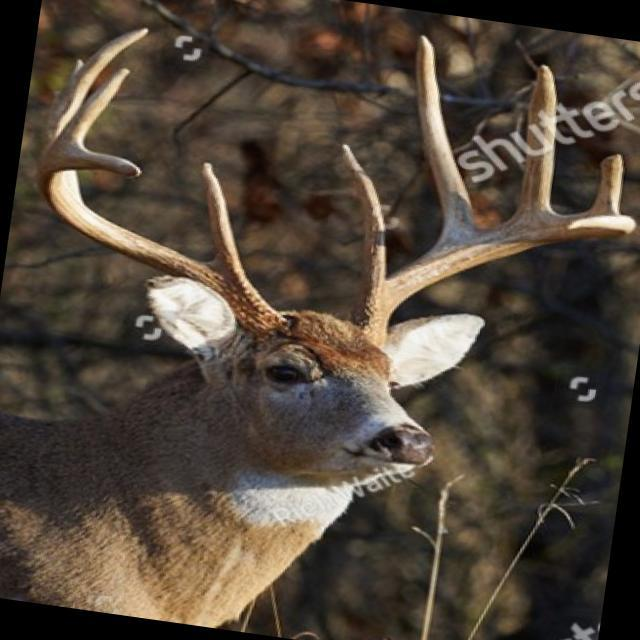L-F: (354, 214, 638, 347)
L-G1: (342, 143, 387, 299)
L-G2: (415, 34, 484, 242)
L-G3: (513, 64, 558, 217)
L-G4: (587, 154, 626, 214)
R-F: (35, 146, 284, 333)
R-G1: (202, 161, 246, 275)
